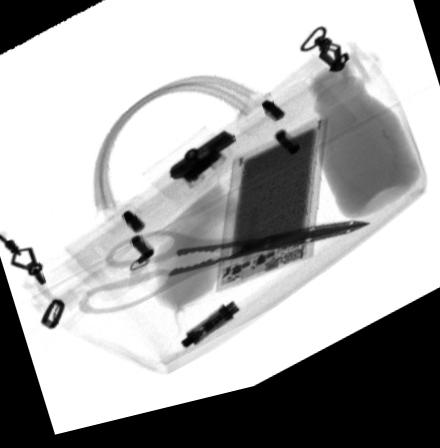Powerbank: (216, 132, 332, 301)
Scissors: (76, 233, 376, 320)
